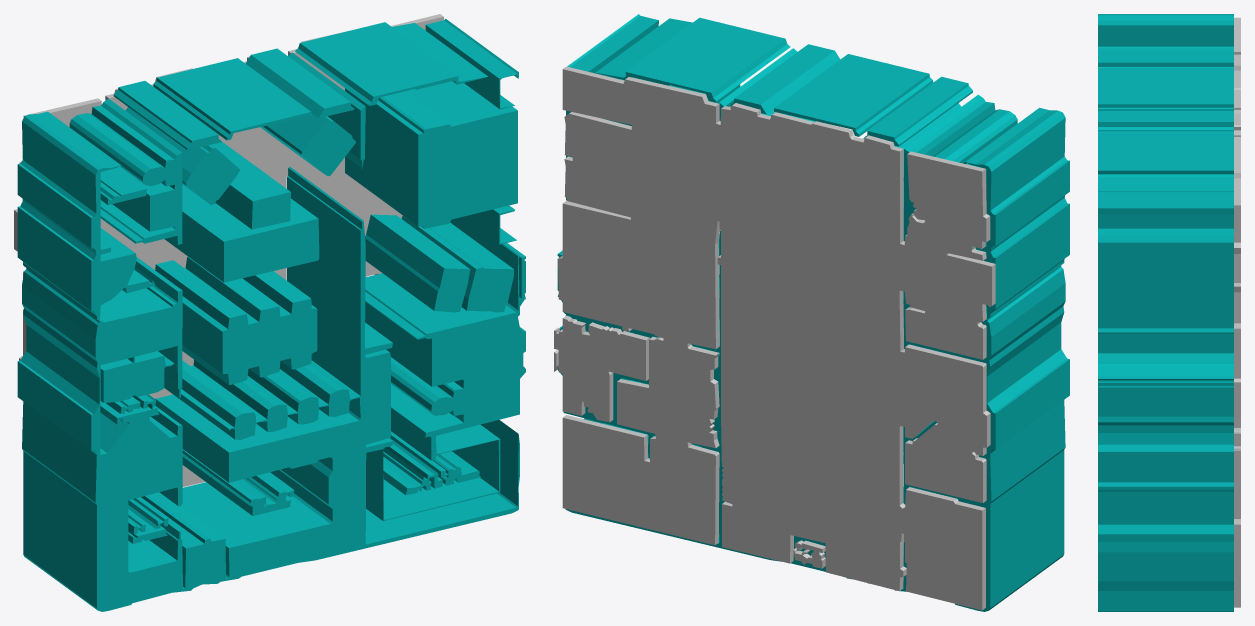
3 views of the same model, side by side, from view 1: azimuth 30°, elevation 25°; view 2: azimuth 150°, elevation 25°; view 3: azimuth 270°, elevation 25° (orthographic). The views are drawn at different scales.
Visible parts, largest first — view 1: world; view 2: world; view 3: world.
Boxes of the visible parts, bbox=[...] form: world: bbox=[14, 14, 525, 611]; world: bbox=[554, 14, 1069, 611]; world: bbox=[1098, 14, 1240, 611].
Size of the model in its own units: 10.23 by 10.13 by 3.15.
